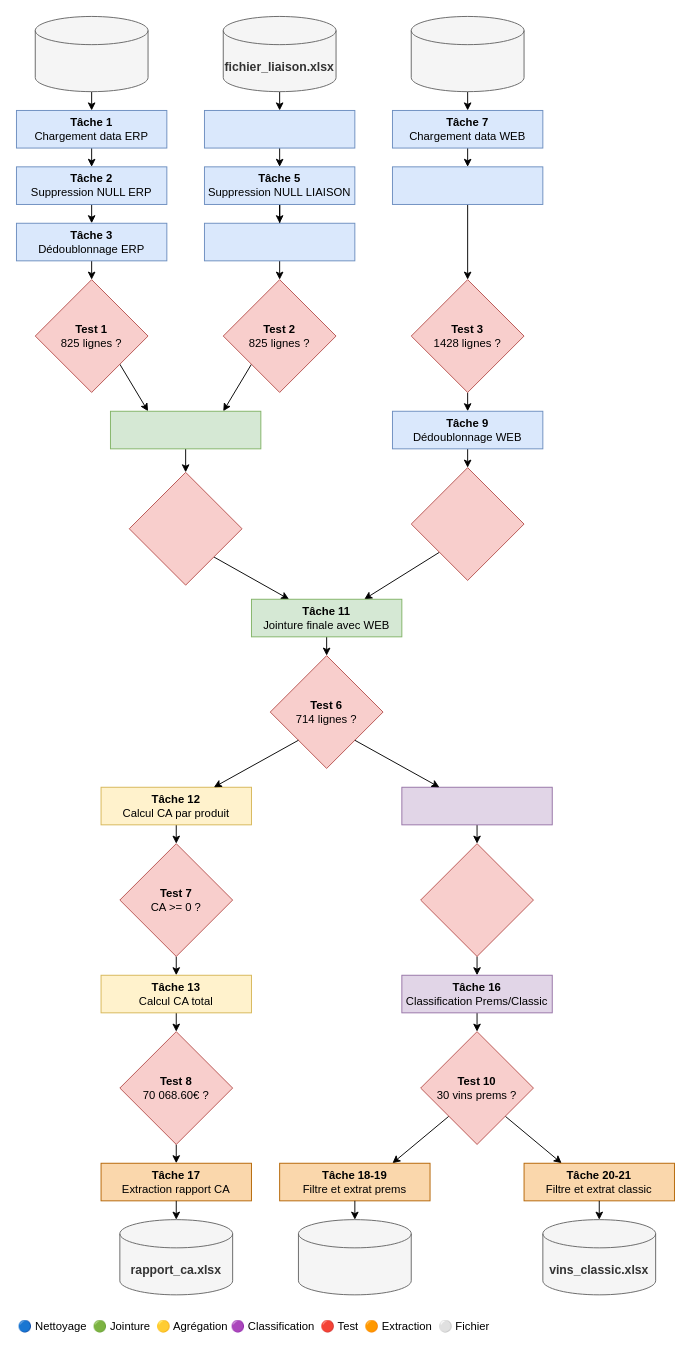
Some shapes in this 691 by 1358 pixel diagram are drawn without their labels. The shapes that lost their labels are listed below. From the top down, each one's centre as x and y in pixels, then its label:
At [91,54]: "fichier_erp.xlsx".
At [467,54]: "fichier_web.xlsx".
At [279,129]: "Tâche 4 Chargement data LIAISON".
At [467,185]: "Tâche 8 Suppression NULL WEB".
At [279,241]: "Tâche 6 Dédoublonnage LIAISON".
At [185,429]: "Tâche 10 Jointure ERP- LIAISON".
At [185,528]: "Test 5 825 lignes ?".
At [467,523]: "Test 4 714 lignes ?".
At [476,805]: "Tâche 14 et 15 Calcul z-score".
At [476,899]: "Test 9 z-score valide ?".
At [354,1257]: "vins_prems.xlsx".
